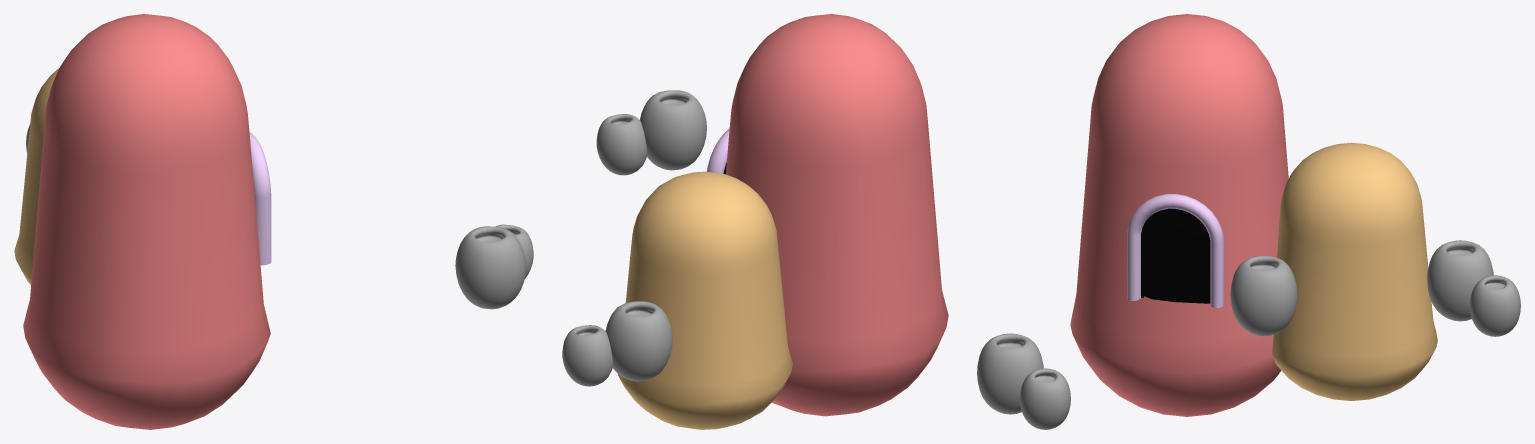
The model's file is Felsvorsprung.fbx.
3 renders of one model, left to right at view 1: azimuth 30°, elevation 25°; view 2: azimuth 150°, elevation 25°; view 3: azimuth 270°, elevation 25°, orthographic. The views are drawn at different scales.
Visible parts, largest first — view 1: pCube534, pCube247, pCube535, Portal1, pCube246; view 2: pCube534, pCube535, pCube248, pCube247, pCube246, pCube249, Portal1; view 3: pCube534, pCube535, Portal1, pCube252, pCube247, pCube248, pCube249, pCube246.
Boxes of the visible parts, x1,y1,x2,y2 form: pCube534: (23, 14, 270, 429); pCube247: (455, 226, 525, 309); pCube535: (14, 68, 59, 284); Portal1: (249, 132, 271, 265); pCube246: (495, 224, 533, 278); pCube534: (726, 14, 948, 416); pCube535: (618, 171, 792, 429); pCube248: (605, 301, 672, 381); pCube247: (640, 90, 706, 170); pCube246: (596, 114, 647, 175); pCube249: (562, 325, 613, 386); Portal1: (707, 128, 729, 174); pCube534: (1070, 14, 1288, 416); pCube535: (1272, 142, 1437, 400); Portal1: (1127, 194, 1223, 308); pCube252: (1230, 255, 1297, 336); pCube247: (977, 333, 1043, 414); pCube248: (1427, 240, 1493, 321); pCube249: (1469, 275, 1520, 336); pCube246: (1020, 368, 1070, 429).
Bounding box in the file's own units: 52.29 × 47.6 × 61.48.
